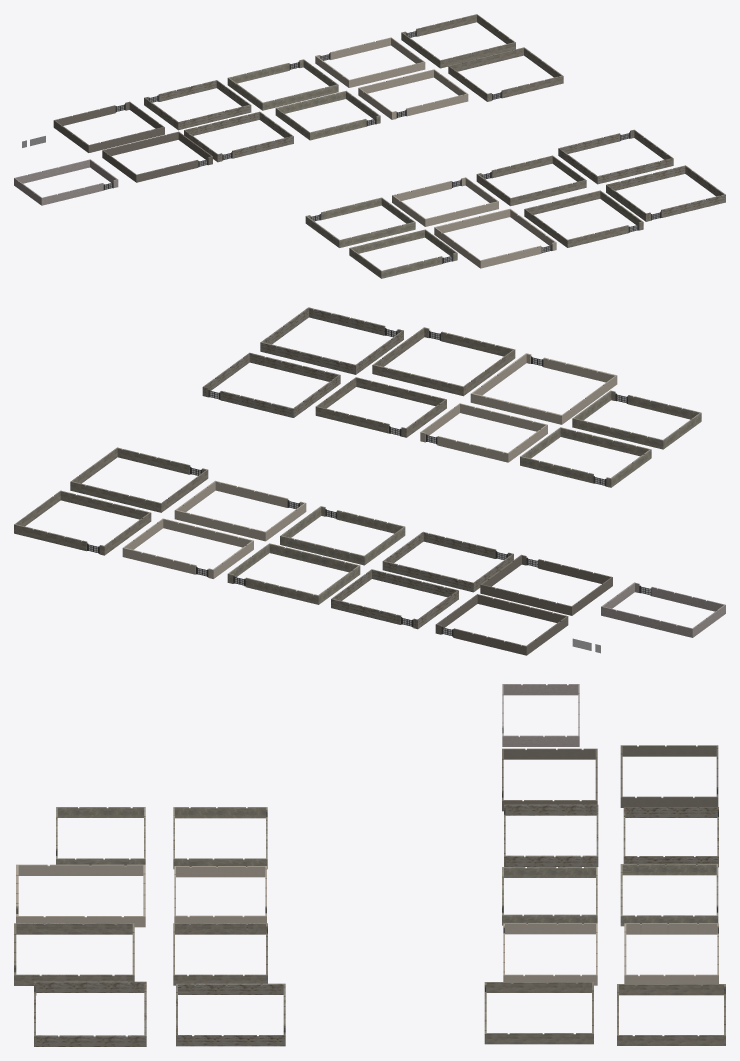
File: HOUSES GROUP.fbx
3 views of the same model, one above another, from view 1: azimuth 30°, elevation 25°; view 2: azimuth 150°, elevation 25°; view 3: azimuth 270°, elevation 25° (orthographic). The views are drawn at different scales.
Visible parts, largest first — view 1: polySurface4_1, polySurface9_7, polySurface5, polySurface9_2, polySurface9_4, polySurface4_2, polySurface2, polySurface9_1, polySurface9, polySurface5__1__1, polySurface5__1_, polySurface3_2 (+7 smaller); view 2: polySurface4_1, polySurface9_7, polySurface5, polySurface9_2, polySurface9_4, polySurface4_2, polySurface9, polySurface9_1, polySurface2, polySurface9_5, polySurface3_2, polySurface5__1__1 (+7 smaller); view 3: polySurface9_7, polySurface4_1, polySurface9_2, polySurface5, polySurface9_4, polySurface4_2, polySurface9_1, polySurface9_6, polySurface9, polySurface5__1_, polySurface5__1__1, polySurface4 (+7 smaller).
Part boxes in pixels (x1,y1,x2,y2): polySurface4_1: [434, 208, 556, 268]; polySurface9_7: [606, 165, 725, 221]; polySurface5: [524, 190, 643, 247]; polySurface9_2: [558, 129, 673, 184]; polySurface9_4: [448, 47, 563, 101]; polySurface4_2: [401, 14, 515, 68]; polySurface2: [102, 131, 212, 182]; polySurface9_1: [53, 101, 164, 152]; polySurface9: [227, 59, 338, 110]; polySurface5__1__1: [476, 155, 586, 206]; polySurface5__1_: [315, 37, 425, 87]; polySurface3_2: [305, 197, 415, 247]; polySurface4_1: [470, 353, 617, 424]; polySurface9_7: [260, 307, 403, 374]; polySurface5: [372, 327, 515, 396]; polySurface9_2: [202, 352, 340, 417]; polySurface9_4: [70, 447, 208, 512]; polySurface4_2: [14, 490, 151, 555]; polySurface9: [227, 543, 360, 604]; polySurface9_1: [435, 594, 568, 655]; polySurface2: [480, 554, 612, 615]; polySurface9_5: [174, 480, 306, 541]; polySurface3_2: [520, 427, 651, 487]; polySurface5__1__1: [315, 377, 446, 437]; polySurface9_7: [34, 981, 146, 1046]; polySurface4_1: [16, 864, 145, 927]; polySurface9_2: [176, 983, 285, 1046]; polySurface5: [14, 923, 134, 985]; polySurface9_4: [484, 982, 593, 1044]; polySurface4_2: [617, 984, 725, 1045]; polySurface9_1: [620, 745, 718, 807]; polySurface9_6: [504, 804, 598, 866]; polySurface9: [620, 864, 718, 926]; polySurface5__1_: [624, 923, 718, 984]; polySurface5__1__1: [173, 923, 267, 985]; polySurface4: [502, 867, 597, 925].
Bounding box in the file's own units: 226 × 3.78 × 193.
8 materials, 7 textured.
